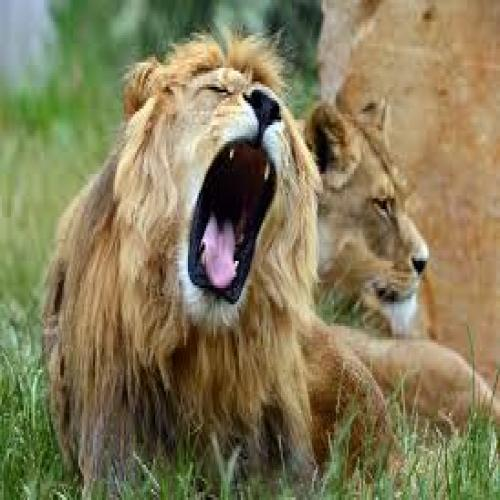lion-endangered: (45, 38, 388, 462), (279, 102, 429, 326)
